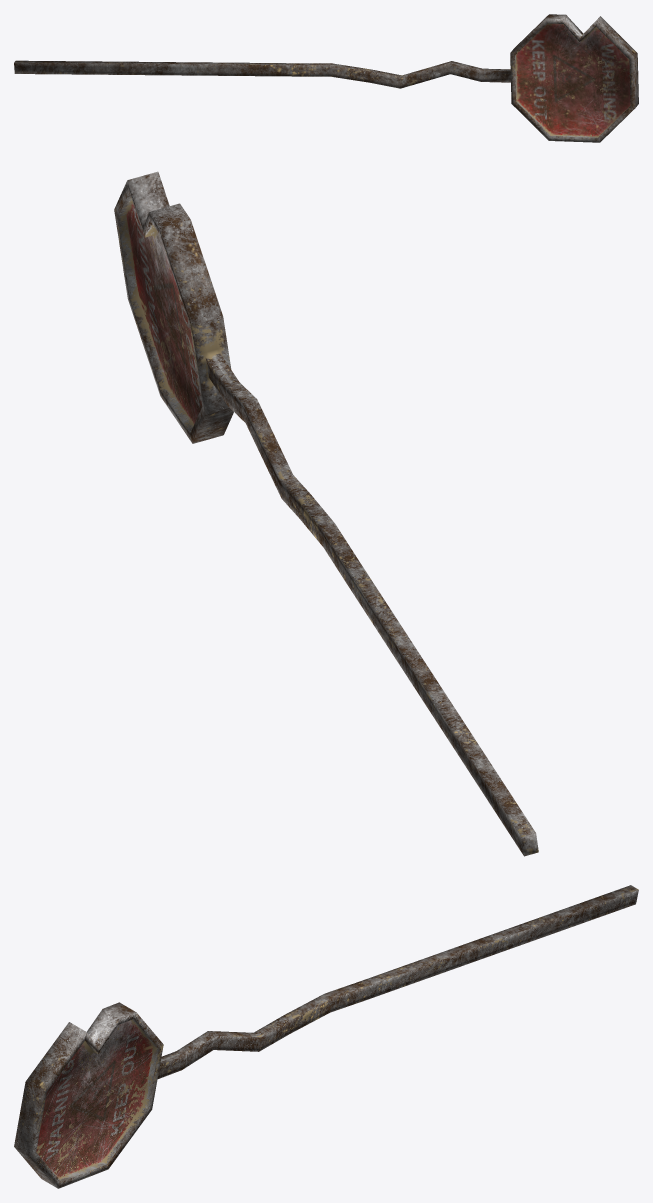
The model's file is Anim_idle_senyal_objetos.0022.obj.
3 views of the same model, one above another, from view 1: azimuth 30°, elevation 25°; view 2: azimuth 150°, elevation 25°; view 3: azimuth 270°, elevation 25° (orthographic). The views are drawn at different scales.
Size of the model in its own units: 9.48 by 2.57 by 8.61.
